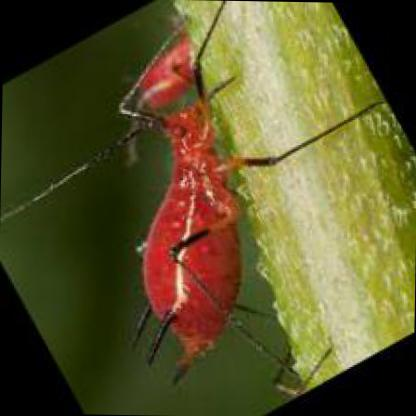uroleucon compositae: (122, 101, 242, 386)
